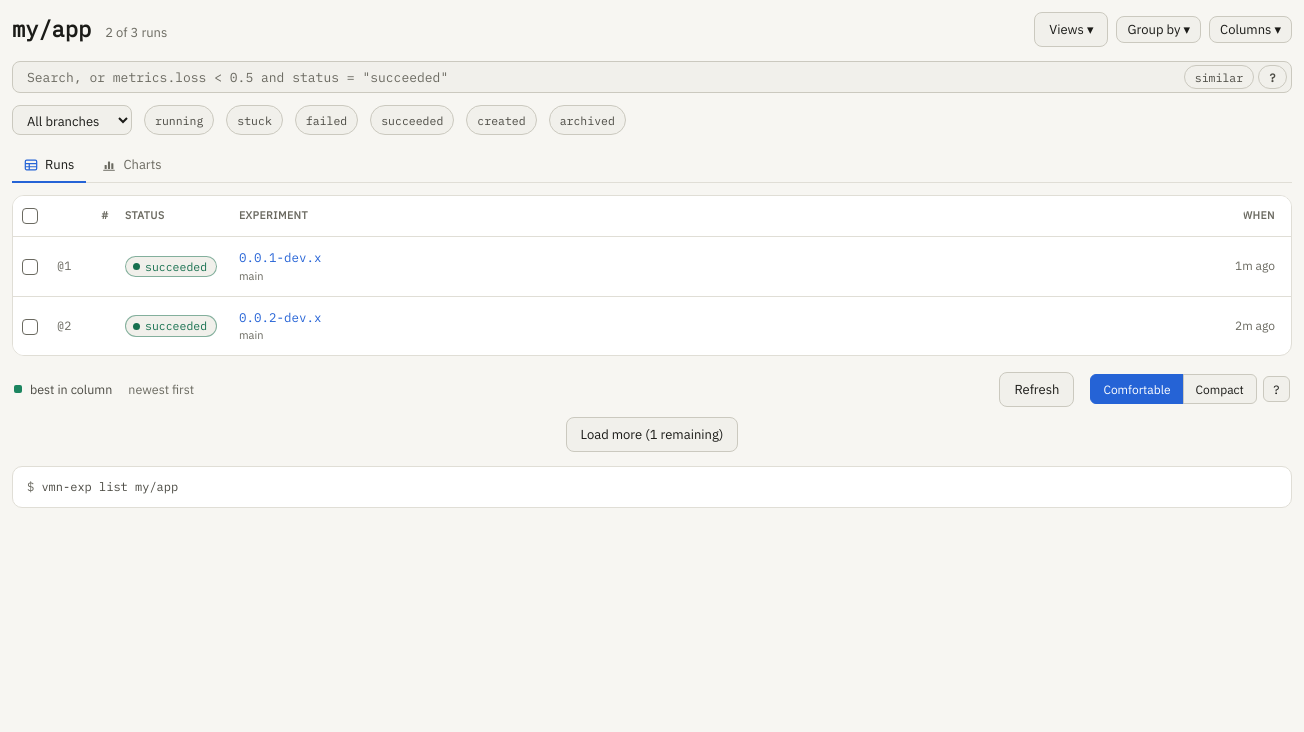
Test: Leaderboard paging › loads the next page with the same filters
This screenshot has width=1304, height=732.
Click the button "Load more (1 remaining)" at {"x": 652, "y": 434}, box [566, 417, 738, 452]
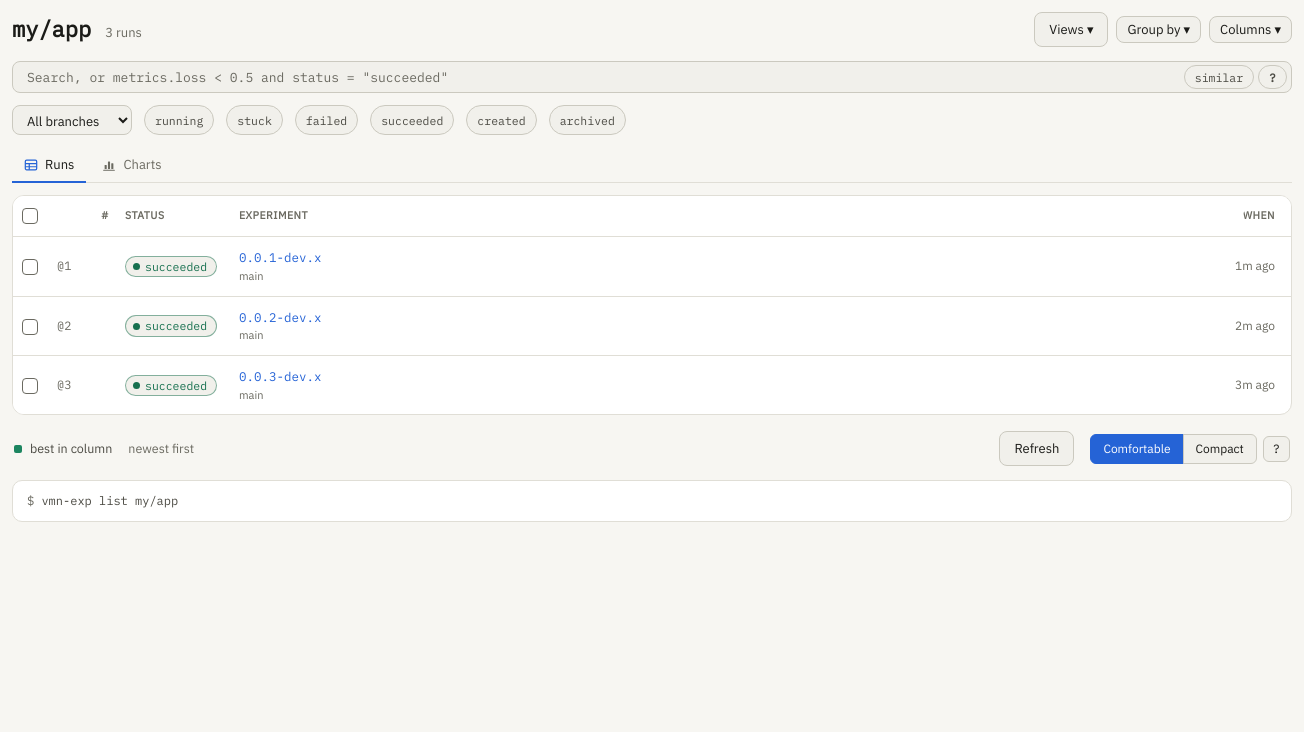
Result: the link "0.0.3-dev.x" is shown at [239, 367, 322, 386]
Result: the button "Load more" is gone
